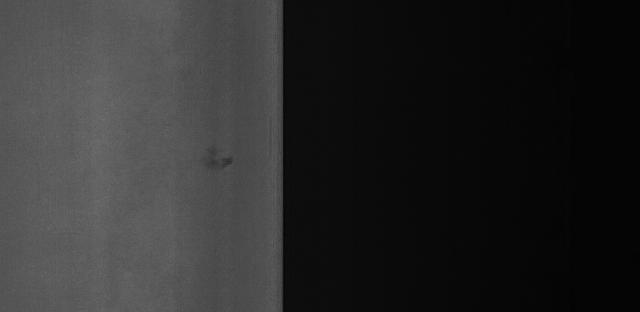oil_spot: (204, 143, 238, 178)
